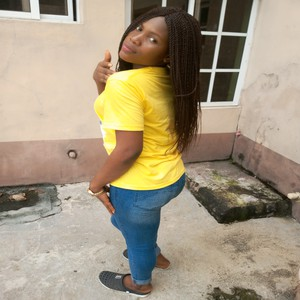Fulokoja_female_student: (104, 11, 185, 266)
